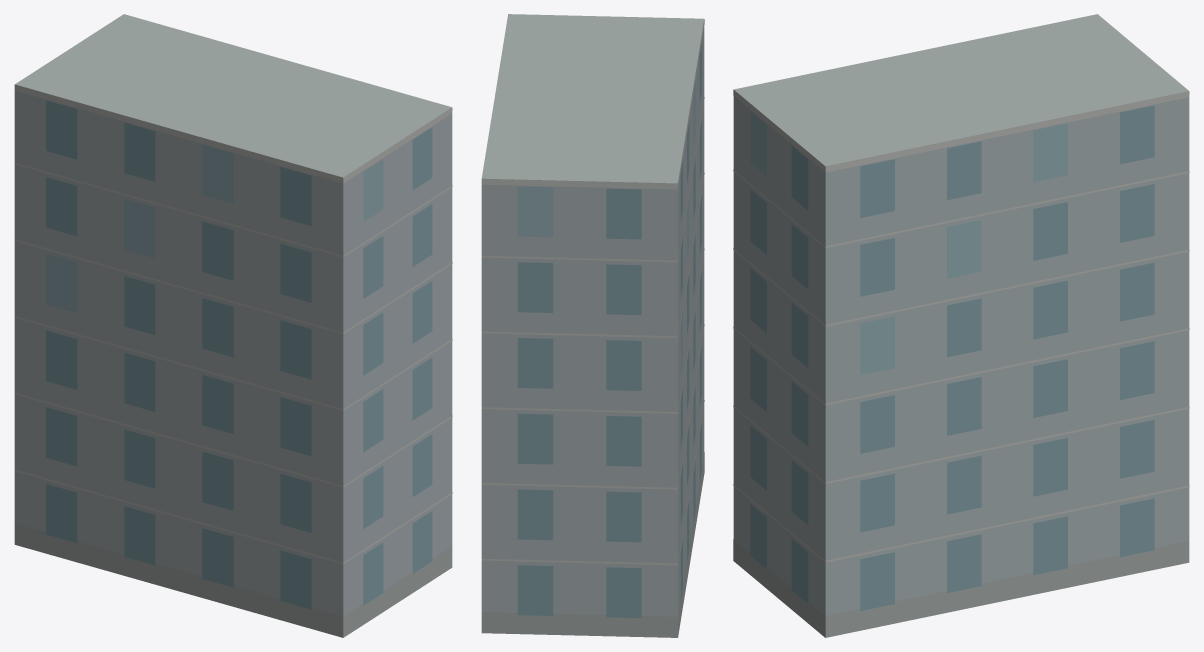
File: survey-upis-32994471.glb
The picture shows the model from 3 angles, left to right: view 1: azimuth 30°, elevation 25°; view 2: azimuth 150°, elevation 25°; view 3: azimuth 270°, elevation 25°; orthographic projection. The views are drawn at different scales.
Visible parts, largest first — view 1: survey-upis-32994471.tmp; view 2: survey-upis-32994471.tmp; view 3: survey-upis-32994471.tmp.
Part boxes in pixels (bbox=[...]): survey-upis-32994471.tmp: bbox=[14, 14, 452, 637]; survey-upis-32994471.tmp: bbox=[481, 14, 704, 637]; survey-upis-32994471.tmp: bbox=[733, 14, 1189, 637].
Bounding box in the file's own units: 12.77 × 18.4 × 16.14.
